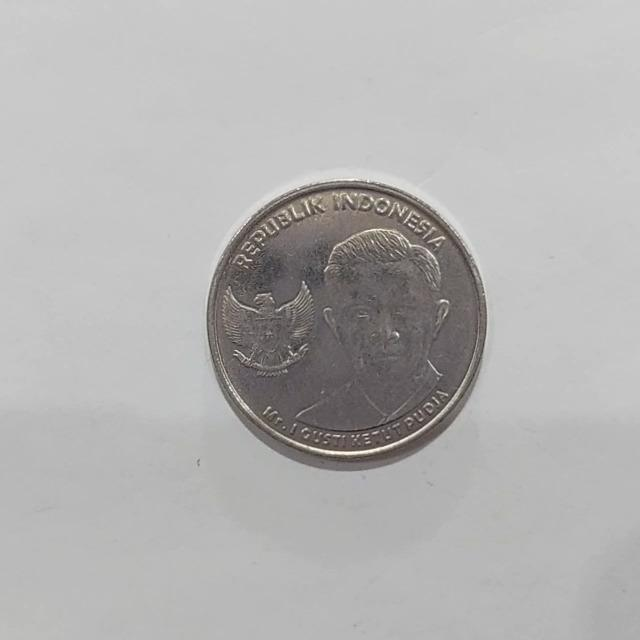Rp100: (204, 174, 488, 469)
